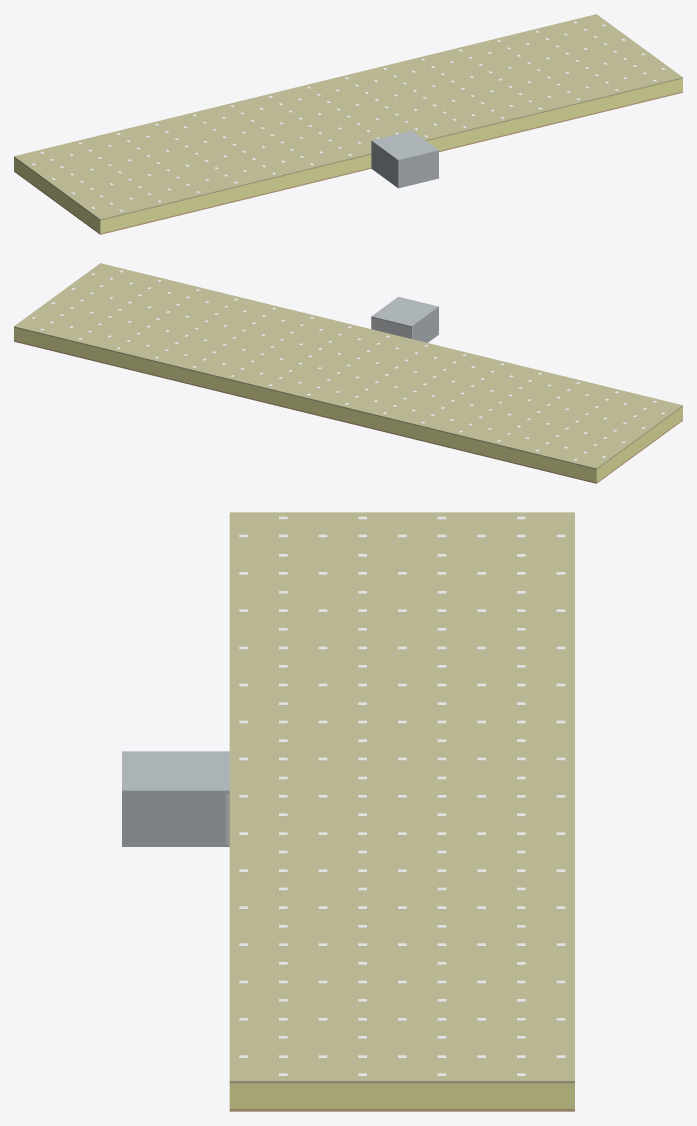
Rendered from Backroom.obj.
3 views of the same model, one above another, from view 1: azimuth 30°, elevation 25°; view 2: azimuth 150°, elevation 25°; view 3: azimuth 270°, elevation 25° (orthographic). The views are drawn at different scales.
Visible parts, largest first — view 1: obj_0; view 2: obj_0; view 3: obj_0.
Boxes of the visible parts, x1=… form: obj_0: x1=14, y1=14, x2=682, y2=234; obj_0: x1=14, y1=263, x2=682, y2=483; obj_0: x1=122, y1=512, x2=574, y2=1111.
Size of the model in its own units: 475 by 22 by 160.
